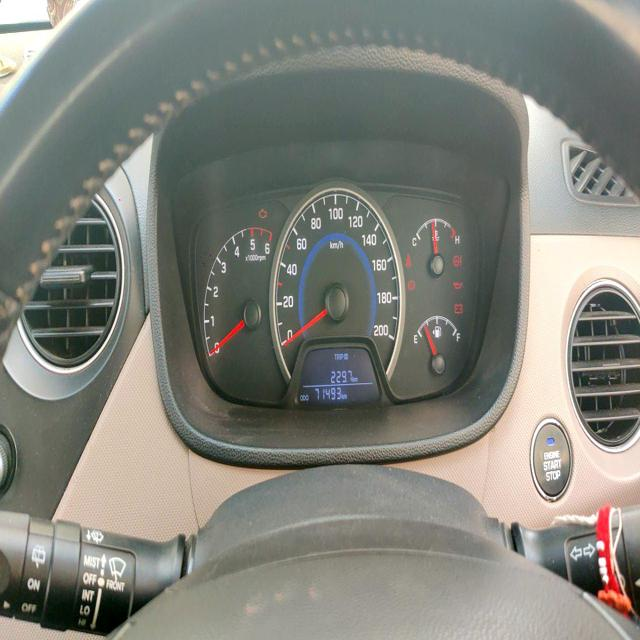odometer: (314, 384, 341, 403)
